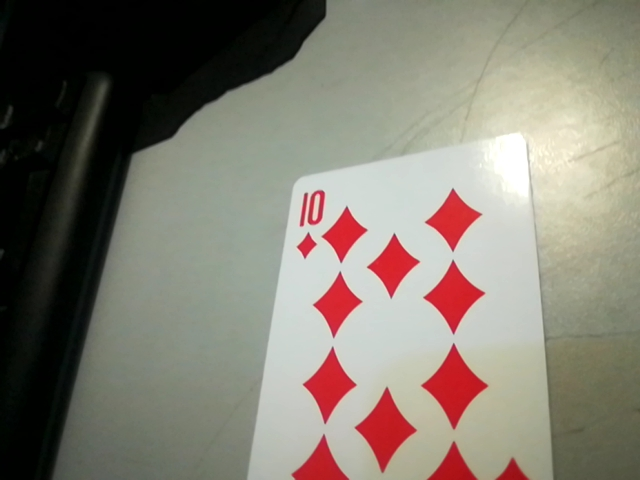fk 10: (283, 182, 334, 261)
